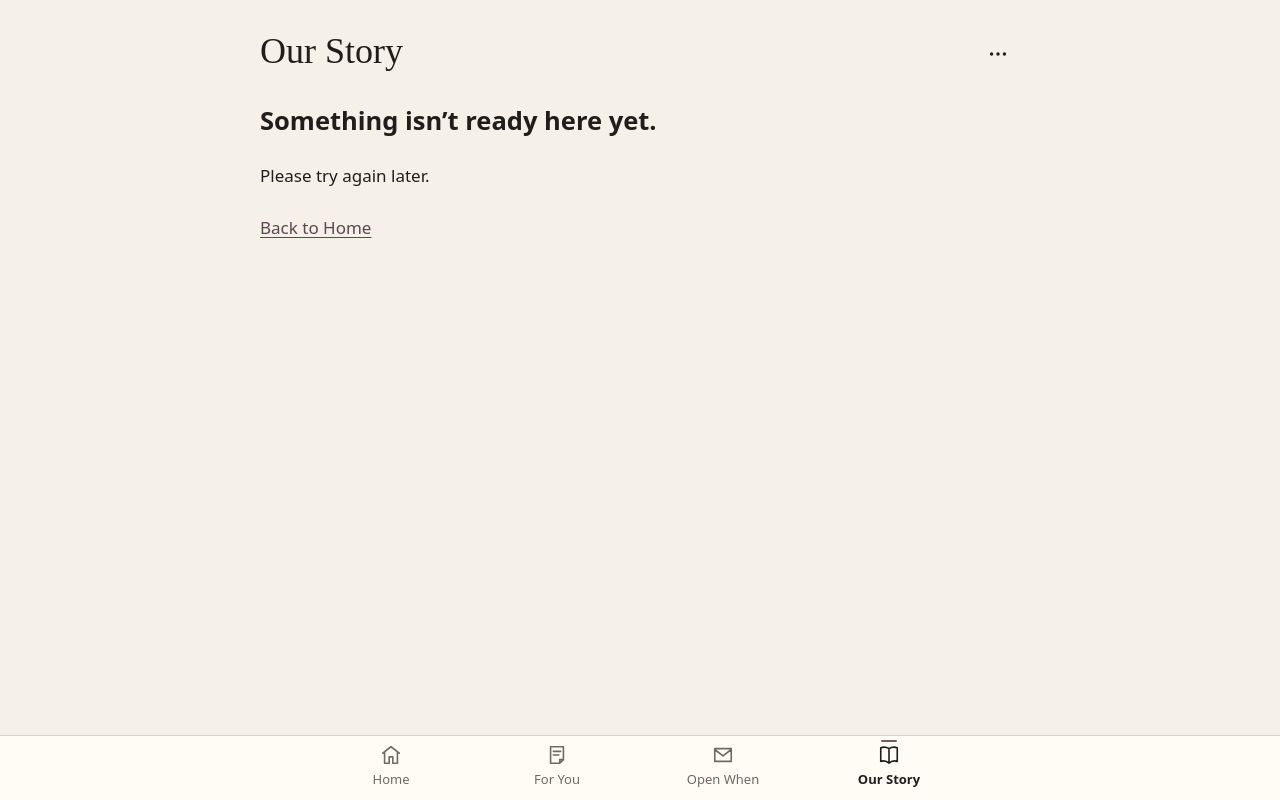
Scenario: does not count a completed deep-link section before the first Home
Click the link to "/". click: {"x": 391, "y": 766}
box: x1=372 y1=744 x2=410 y2=788
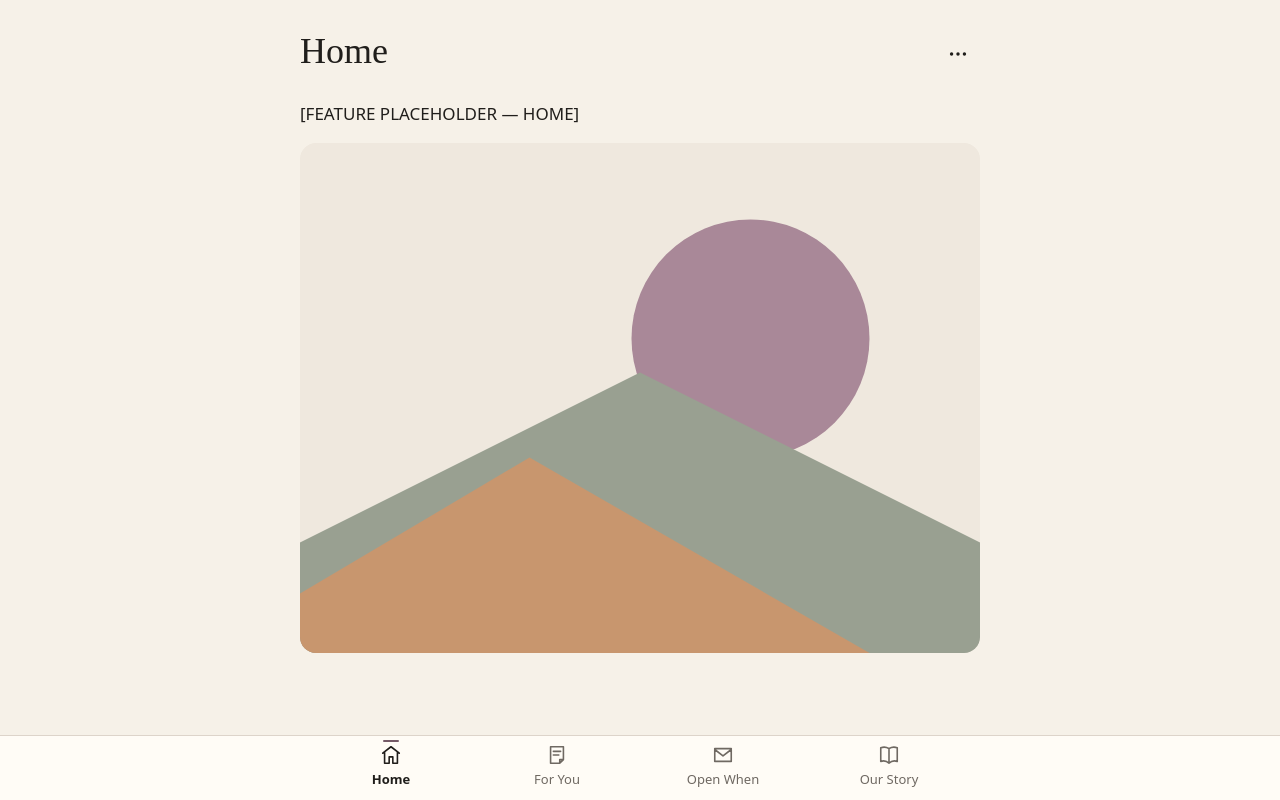
Expected: the text "Keep this close" is not shown
Click the link "For You". click: {"x": 557, "y": 766}
box: x1=534 y1=744 x2=580 y2=788
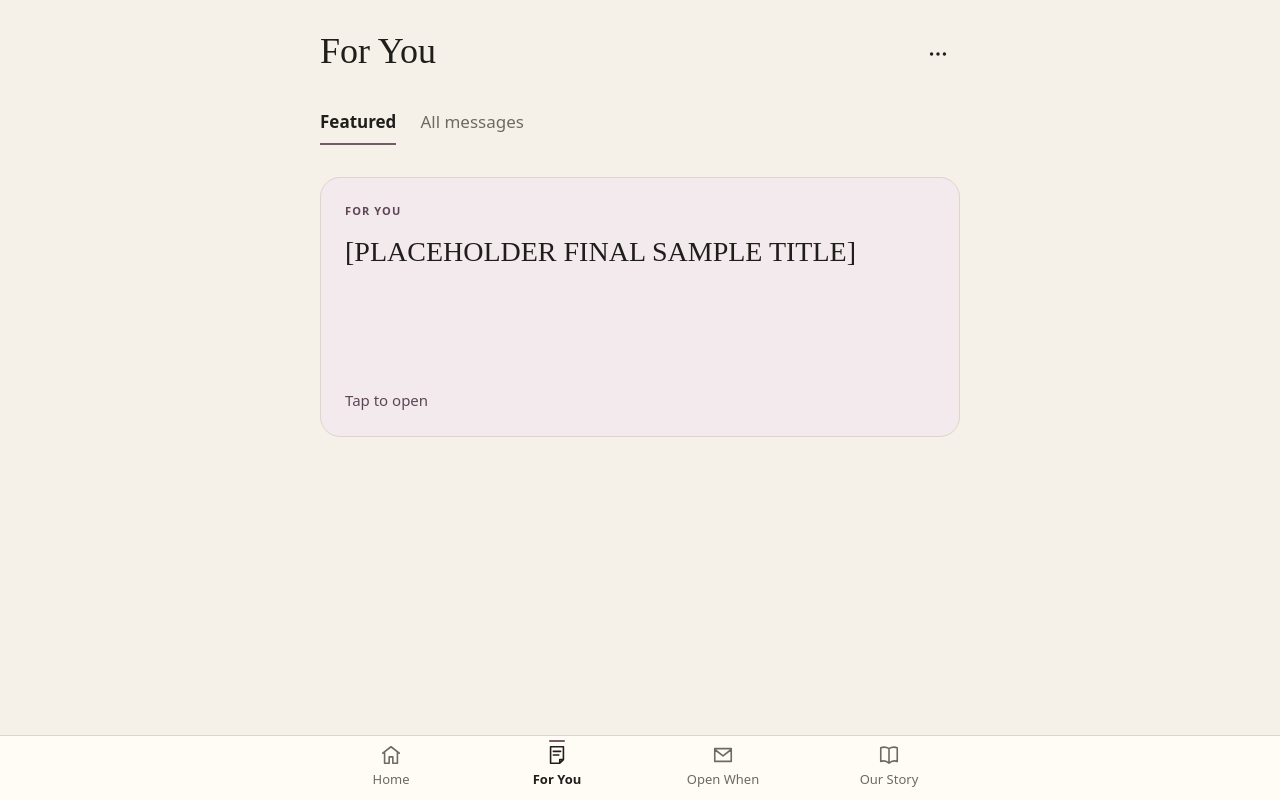
Click the link to "/". click: {"x": 391, "y": 766}
box: x1=372 y1=744 x2=410 y2=788
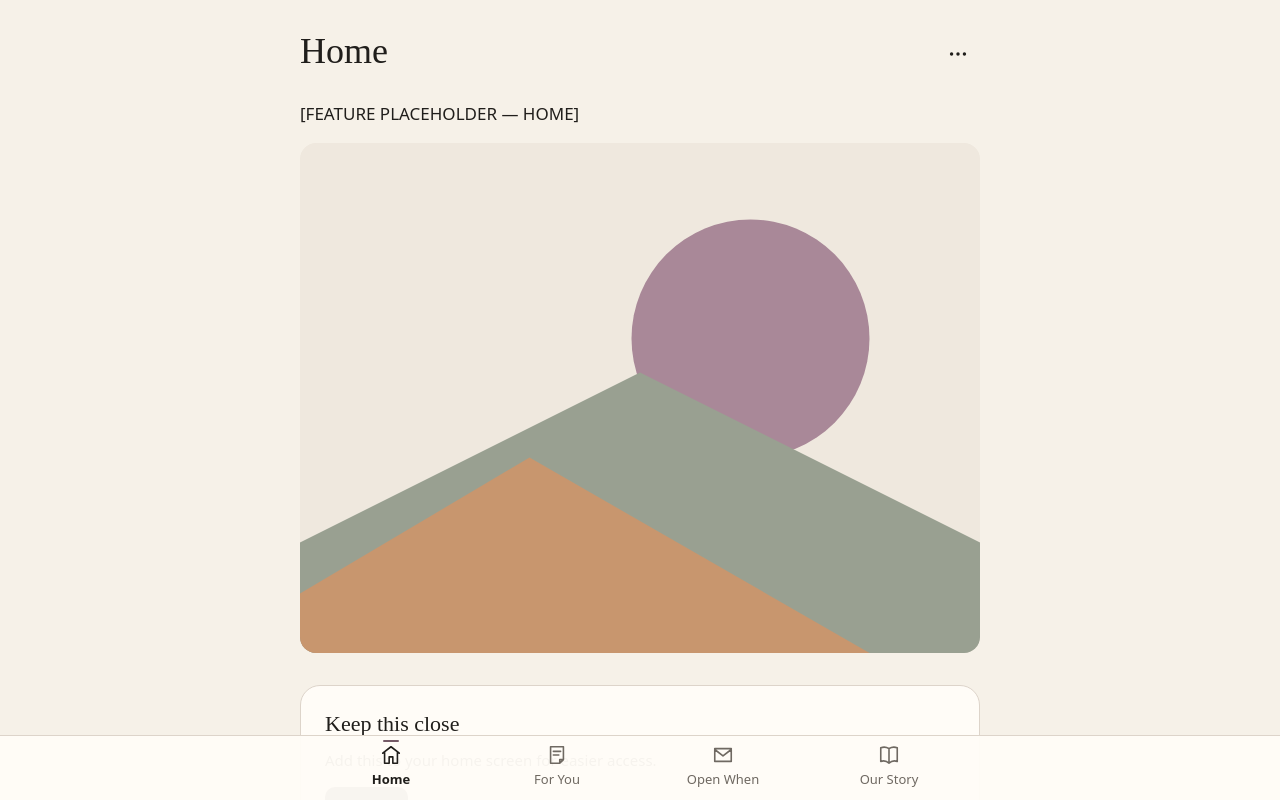
Now the heading "Keep this close" is shown, box x1=325 y1=711 x2=459 y2=736
